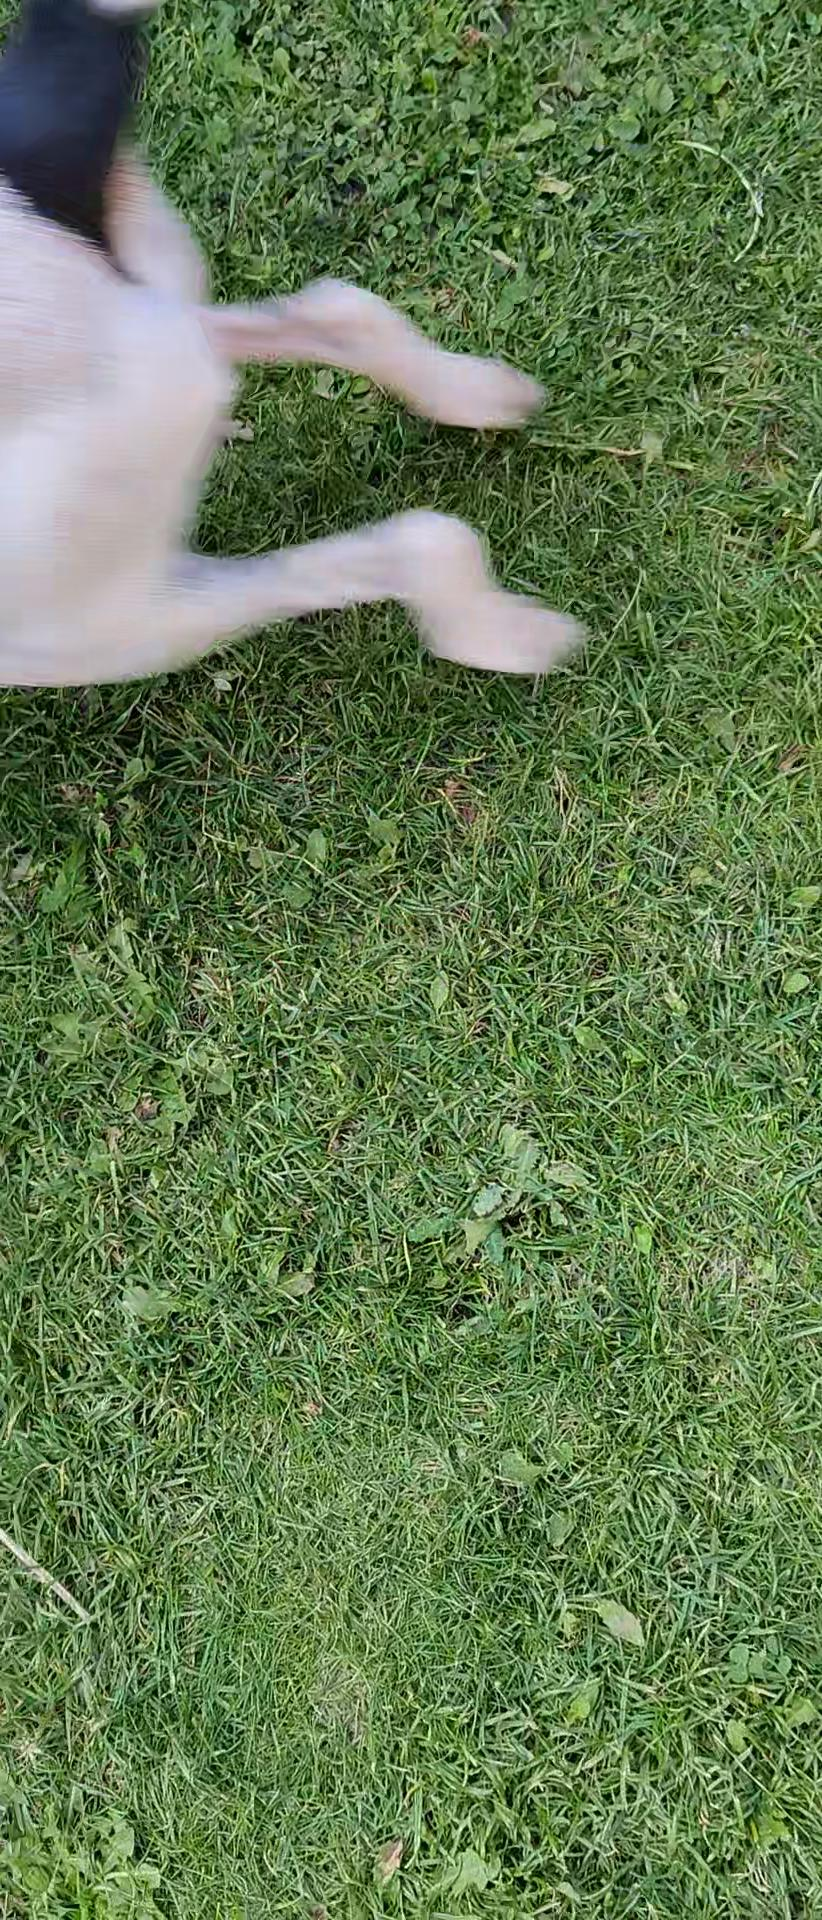Dog: (0, 0, 644, 747)
